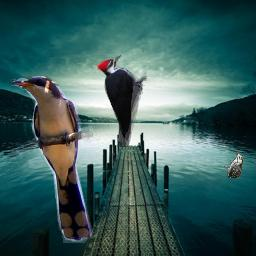Cuckoo: (10, 76, 93, 243)
Woodpecker: (95, 54, 147, 147), (224, 149, 243, 178)
